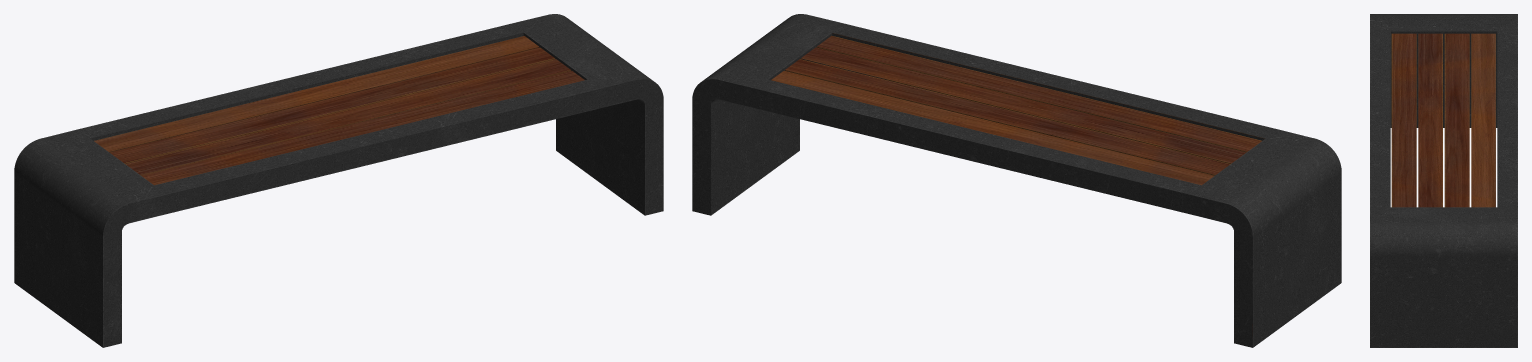
File: black.glb
3 renders of one model, left to right at view 1: azimuth 30°, elevation 25°; view 2: azimuth 150°, elevation 25°; view 3: azimuth 270°, elevation 25°, orthographic. The views are drawn at different scales.
Visible parts, largest first — view 1: bench; view 2: bench; view 3: bench.
Part boxes in pixels (x1=…): bench: x1=14, y1=14, x2=663, y2=347; bench: x1=692, y1=14, x2=1341, y2=347; bench: x1=1370, y1=14, x2=1517, y2=347.
Size of the model in its own units: 1.91 by 0.45 by 0.5251.
Materials: 1 (1 with a texture image).
